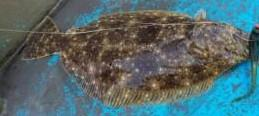fish: (24, 10, 250, 107)
